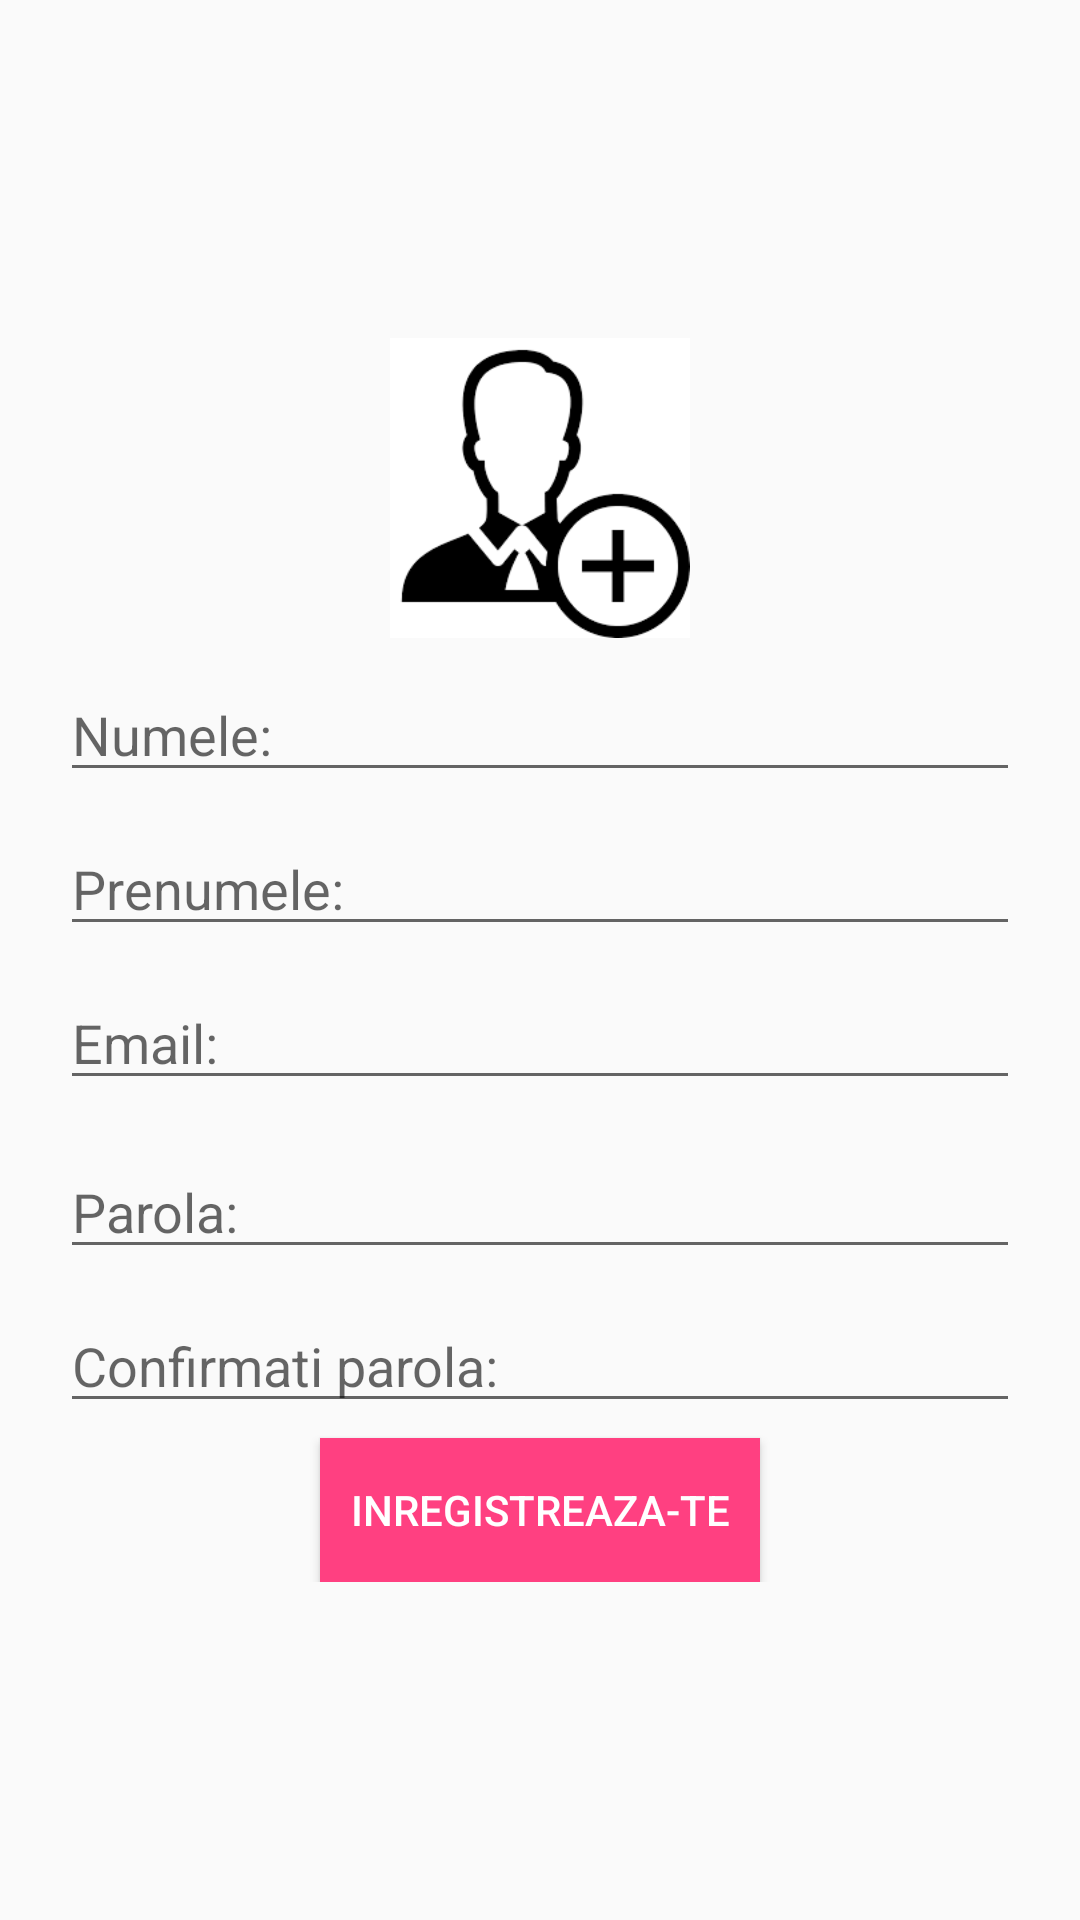

Point at icon controls on the screen. Image size 1080*1920, points as (x,y).
profile: (545,493)
